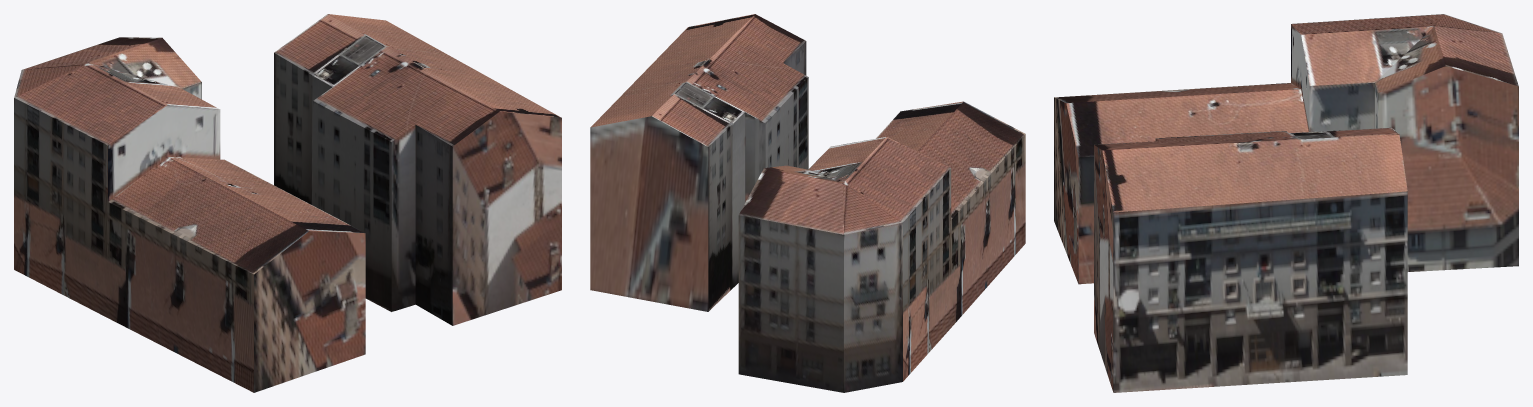
3 views of the same model, side by side, from view 1: azimuth 30°, elevation 25°; view 2: azimuth 150°, elevation 25°; view 3: azimuth 270°, elevation 25° (orthographic). The views are drawn at different scales.
Parts seen in each view (by area): view 1: Z_UP; view 2: Z_UP; view 3: Z_UP.
Part boxes in pixels (x1,y1,x2,y2): Z_UP: (14, 14, 561, 392); Z_UP: (590, 14, 1025, 392); Z_UP: (1054, 14, 1518, 392).
Bounding box in the file's own units: 43.35 × 21.25 × 42.77.
2 materials, 1 textured.
